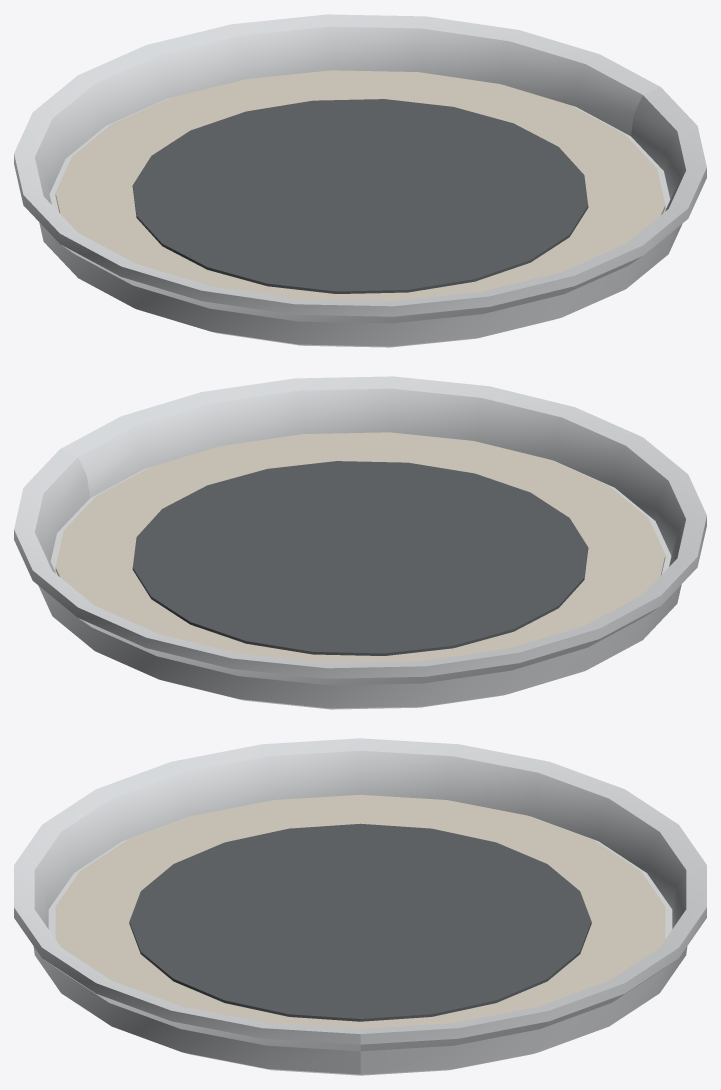
File: bar-pub-and-brewery-taproom-serving-tray-f8da9722__18439.glb
3 renders of one model, top to bottom at view 1: azimuth 30°, elevation 25°; view 2: azimuth 150°, elevation 25°; view 3: azimuth 270°, elevation 25°, orthographic.
Parts seen in each view (by area): view 1: serving-tray; view 2: serving-tray; view 3: serving-tray.
Part boxes in pixels (box(x1,y1,x2,y2)): serving-tray: box(14, 14, 706, 347); serving-tray: box(14, 376, 706, 709); serving-tray: box(14, 738, 706, 1075).
Bounding box in the file's own units: 0.36 × 0.032 × 0.3564.
